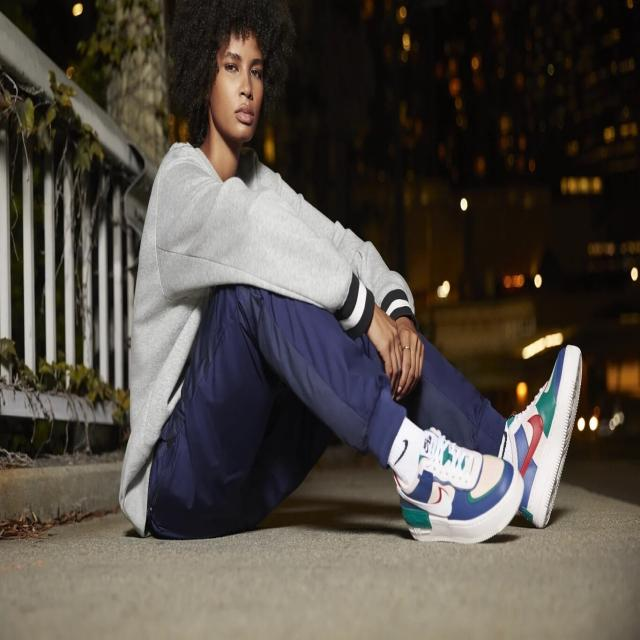nike: (396, 482, 456, 520), (523, 413, 548, 480)
